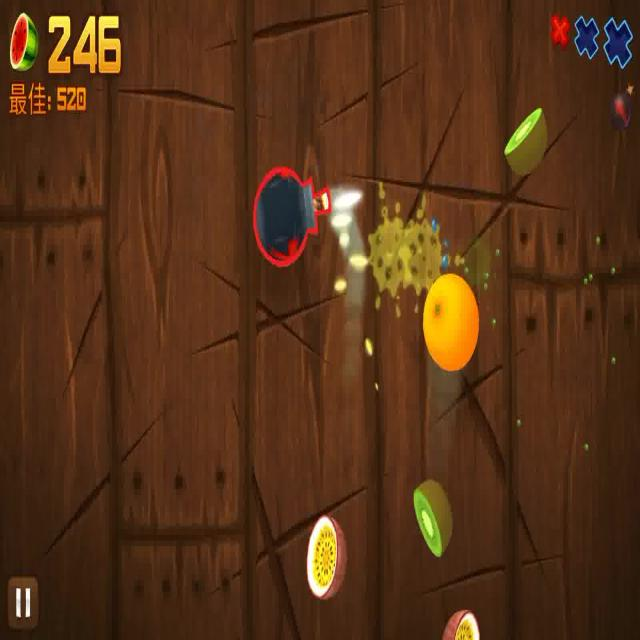bomb: (250, 163, 334, 269)
fruit: (424, 270, 478, 374), (308, 513, 344, 601), (414, 476, 454, 555), (506, 107, 544, 177), (440, 612, 485, 640)
